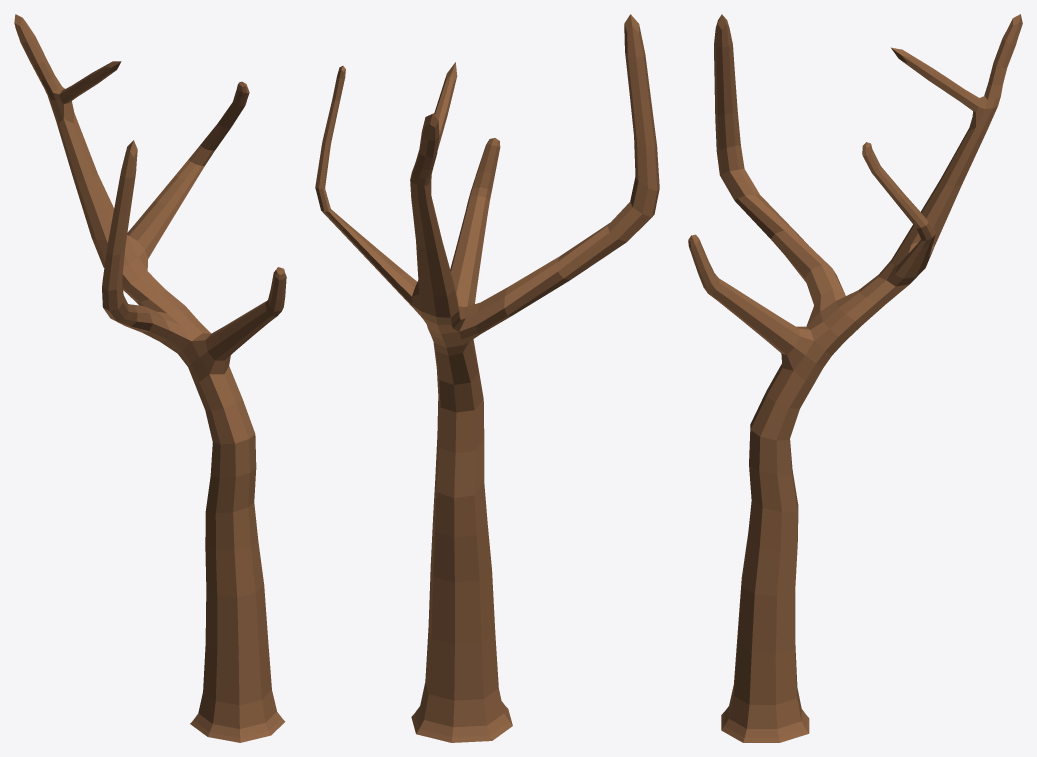
The model's file is nature-commontree-dead-4.glb.
3 views of the same model, side by side, from view 1: azimuth 30°, elevation 25°; view 2: azimuth 150°, elevation 25°; view 3: azimuth 270°, elevation 25° (orthographic). The views are drawn at different scales.
Parts seen in each view (by area): view 1: CommonTree_Dead_4; view 2: CommonTree_Dead_4; view 3: CommonTree_Dead_4.
Part boxes in pixels (bbox=[...]): CommonTree_Dead_4: bbox=[14, 14, 286, 742]; CommonTree_Dead_4: bbox=[315, 14, 659, 742]; CommonTree_Dead_4: bbox=[688, 14, 1022, 742].
Bounding box in the file's own units: 81.6 × 237 × 108.
